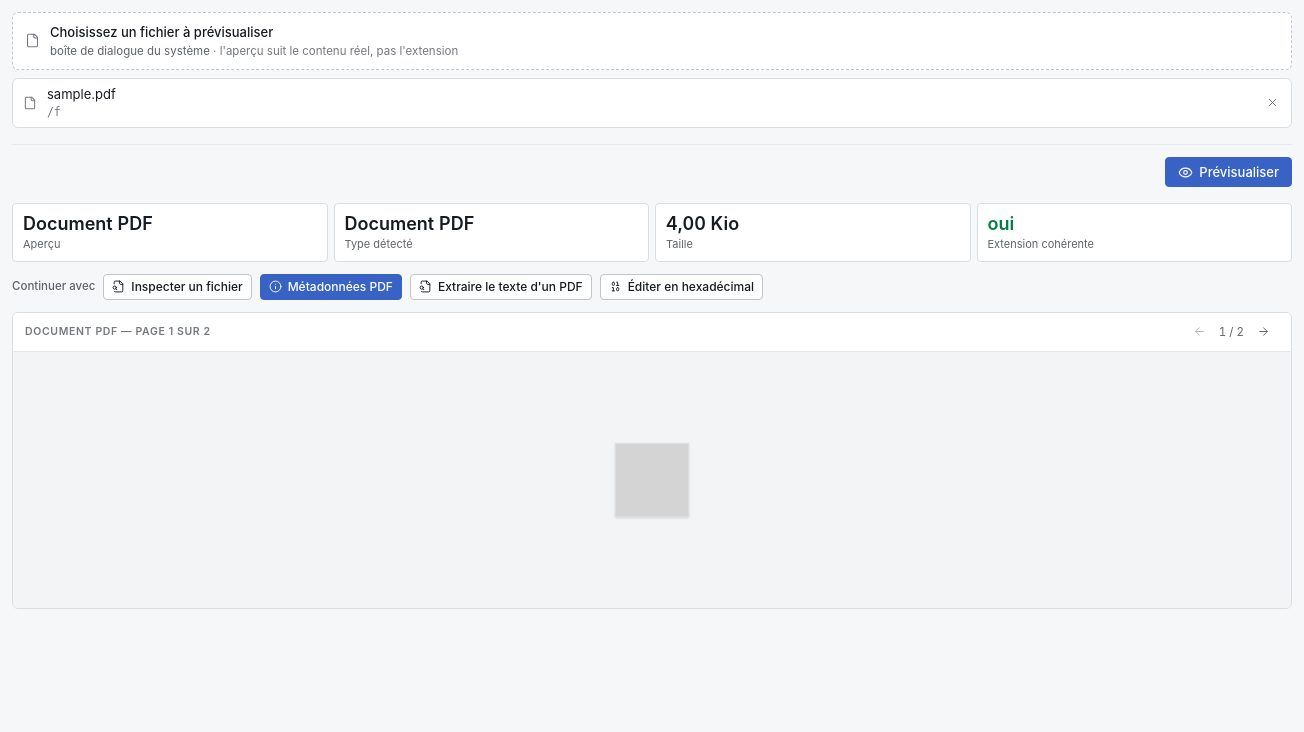
Test: aperçu ouvert depuis un autre outil › passe à la page suivante d'un PDF de plusieurs pages
Click the button named "Page suivante": point(1264, 332) x1=1248 y1=319 x2=1279 y2=345
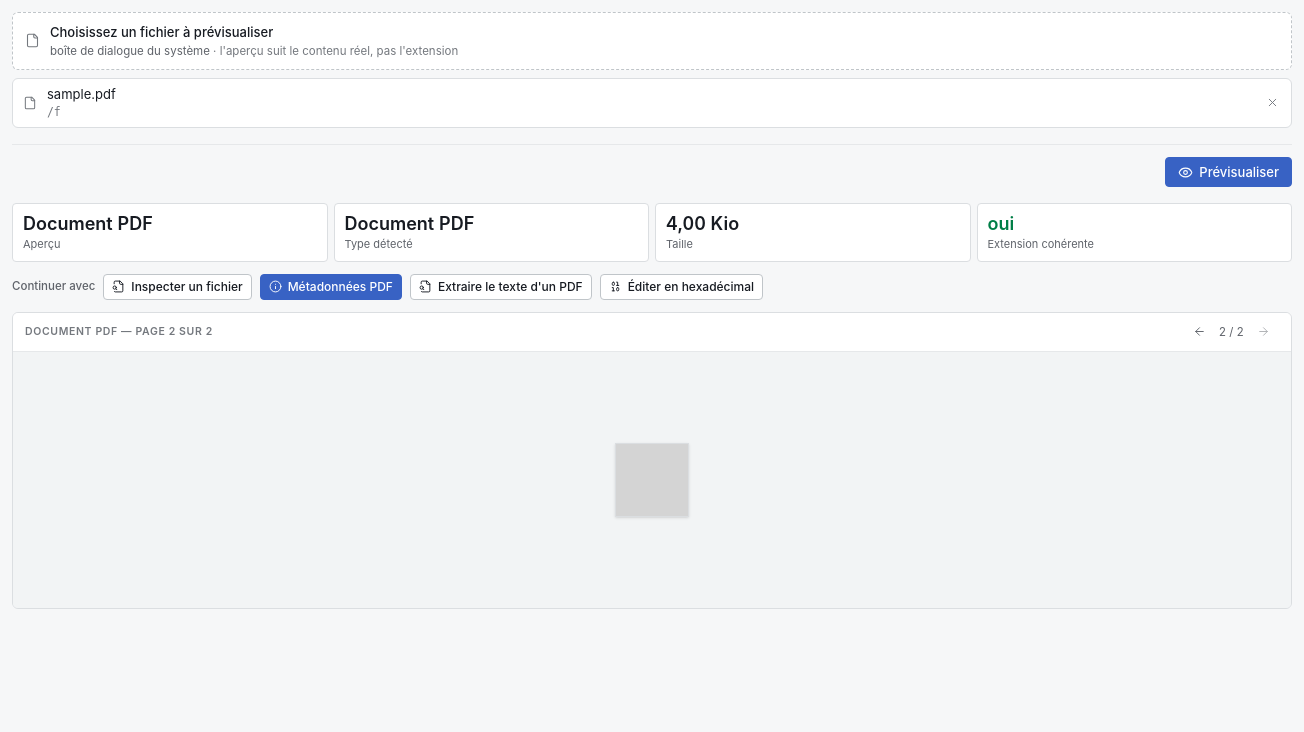
Expected: the heading "Document PDF — page 2 sur 2" is shown, x1=25 y1=324 x2=213 y2=340
